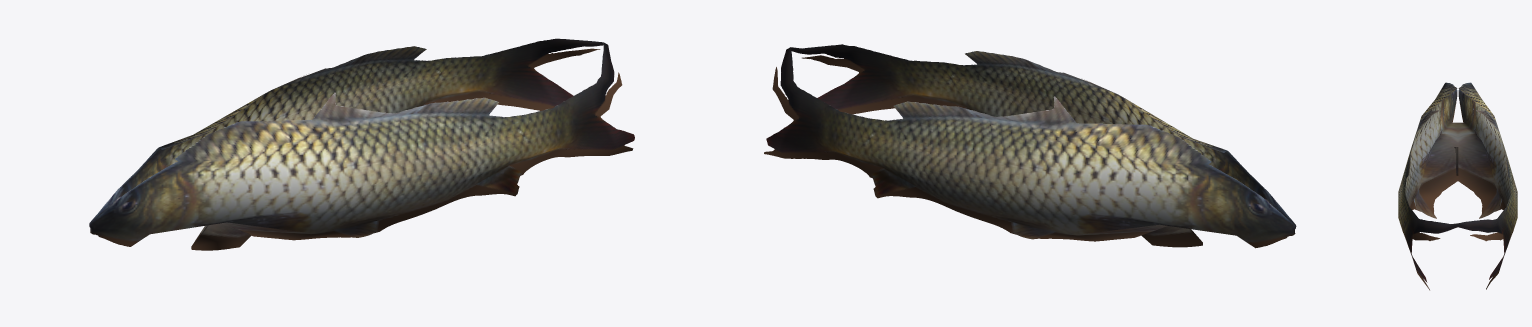
The model's file is carp_fbx_NEW.fbx.
3 renders of one model, left to right at view 1: azimuth 30°, elevation 25°; view 2: azimuth 150°, elevation 25°; view 3: azimuth 270°, elevation 25°, orthographic. The views are drawn at different scales.
Parts seen in each view (by area): view 1: pPlane5; view 2: pPlane5; view 3: pPlane5.
Part boxes in pixels (x1,y1,x2,y2): pPlane5: [89, 38, 634, 250]; pPlane5: [764, 44, 1296, 248]; pPlane5: [1398, 82, 1517, 290].
Size of the model in its own units: 31.21 by 12.35 by 7.11.
